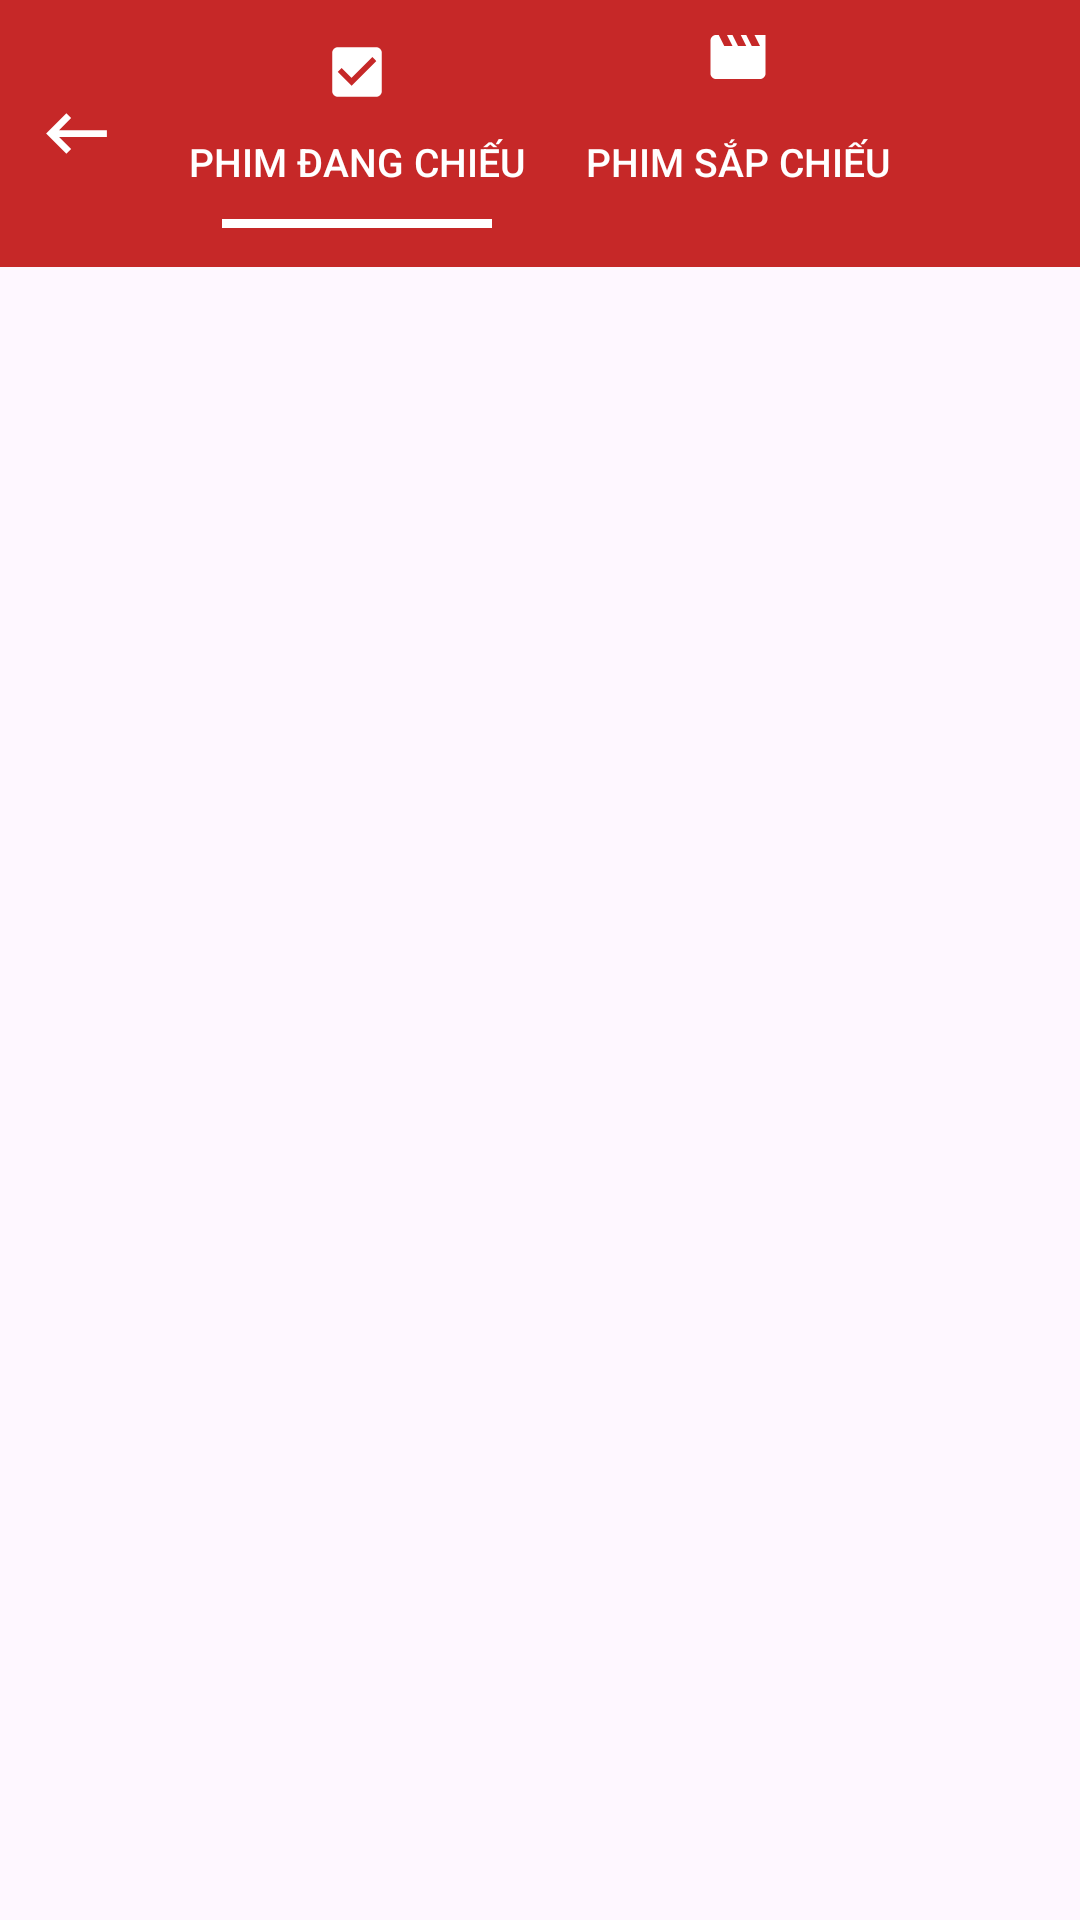

Named icons in this screenshot (1080×1920) and their centers, (x,y):
Trở lại: (76,133)
